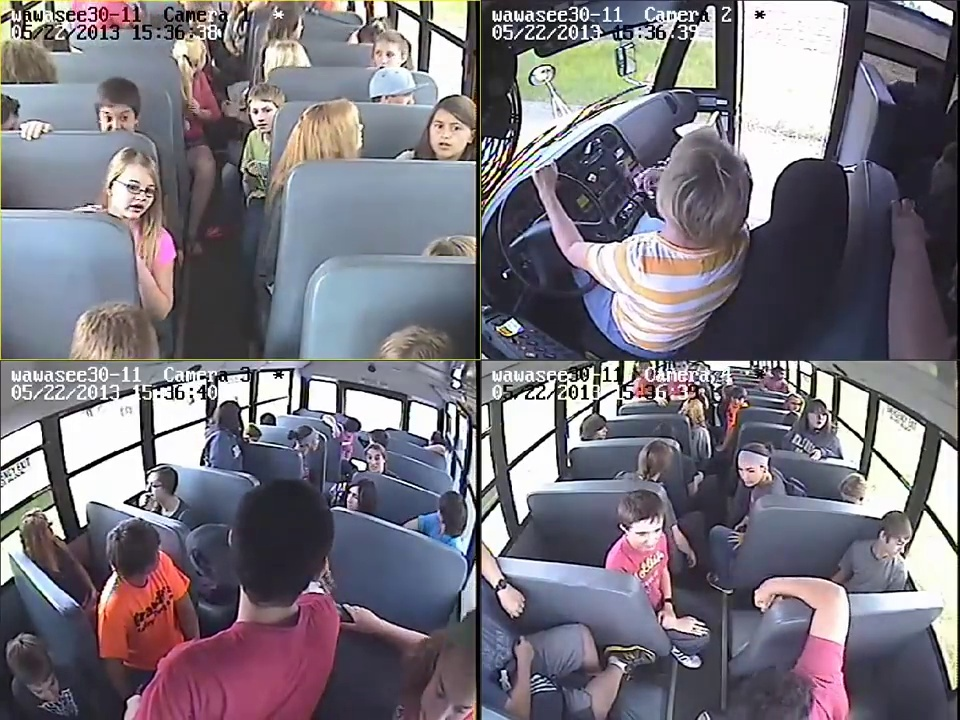face: (118, 169, 152, 218), (429, 117, 470, 156), (95, 103, 140, 132), (625, 517, 661, 552), (25, 671, 59, 705), (373, 39, 404, 69), (250, 99, 275, 131), (737, 461, 765, 486), (143, 470, 166, 500), (885, 532, 907, 561), (345, 486, 365, 510), (363, 450, 384, 471), (806, 407, 825, 428), (787, 395, 801, 410), (731, 395, 743, 410)
